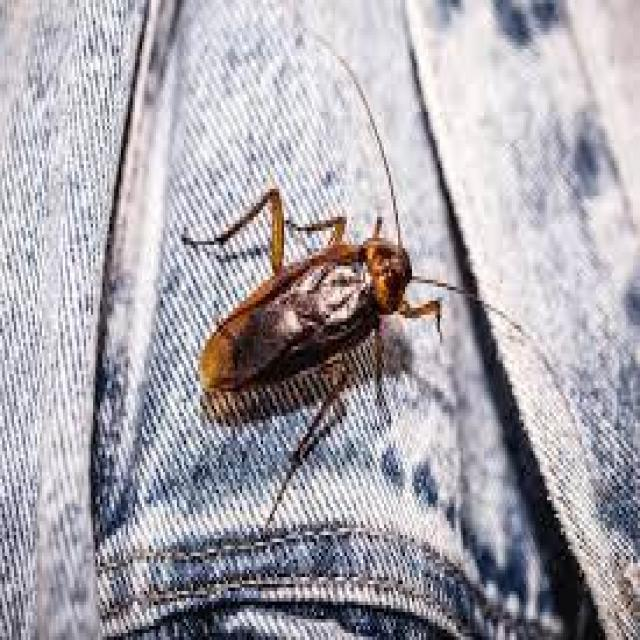Cockroach: (171, 182, 468, 444)
